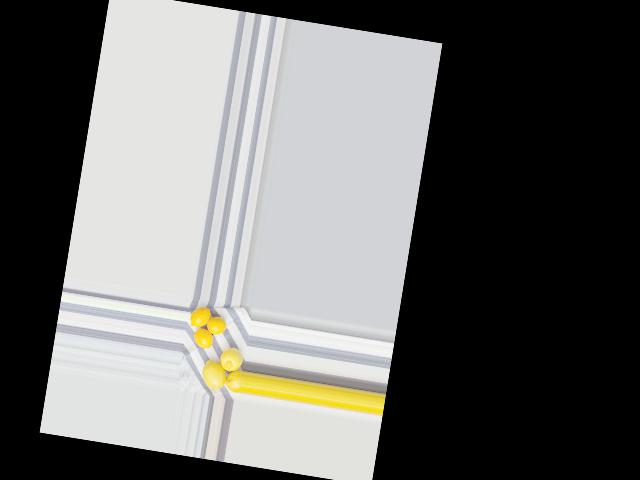lemon: (223, 368, 243, 396)
